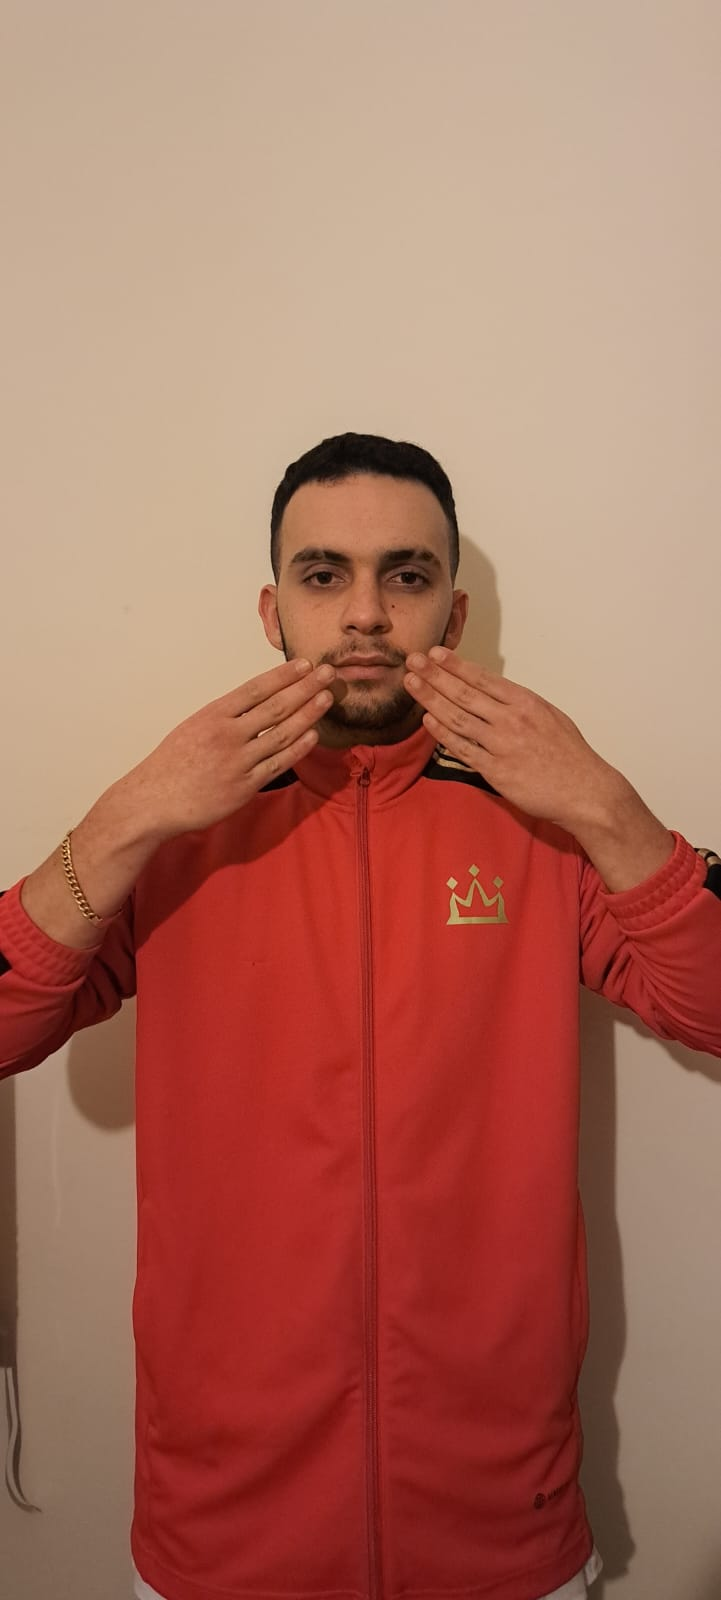grazie: (160, 642, 575, 853)
